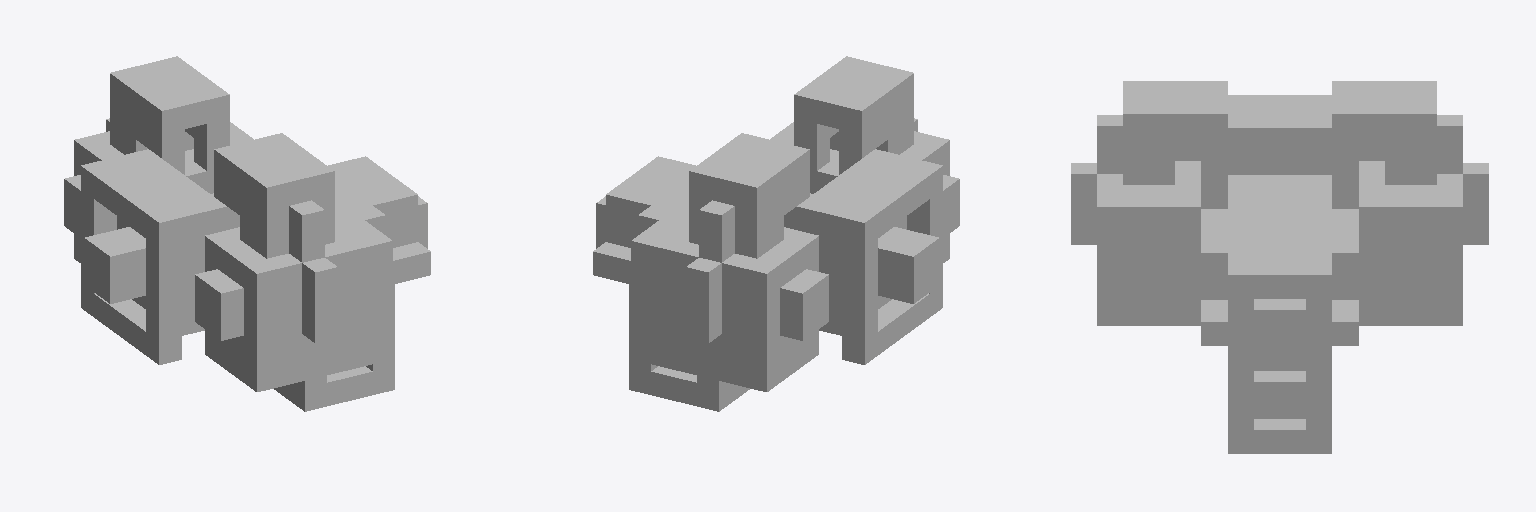
The model's file is Head.obj.
3 views of the same model, side by side, from view 1: azimuth 30°, elevation 25°; view 2: azimuth 150°, elevation 25°; view 3: azimuth 270°, elevation 25° (orthographic).
Parts seen in each view (by area): view 1: object 1; view 2: object 1; view 3: object 1.
Part boxes in pixels (bbox=[...]): object 1: bbox=[64, 56, 430, 411]; object 1: bbox=[593, 56, 959, 411]; object 1: bbox=[1071, 81, 1488, 453].
Size of the model in its own units: 1.4 by 1.2 by 1.6.